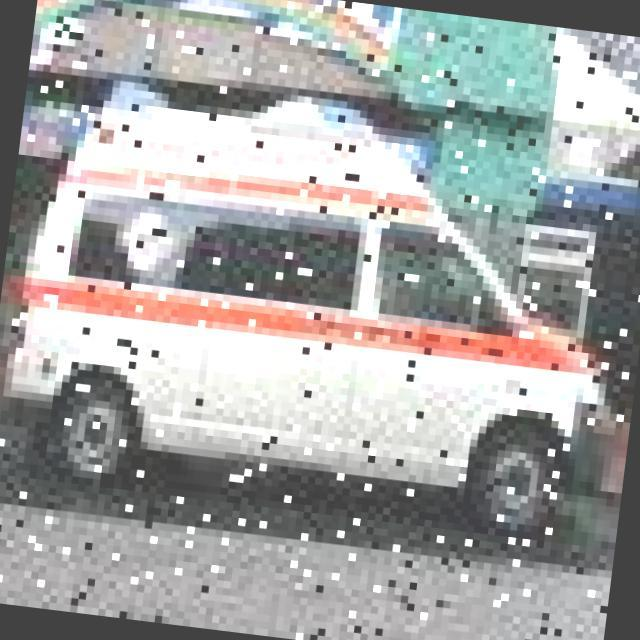emergency-vehicle: (0, 71, 640, 549)
